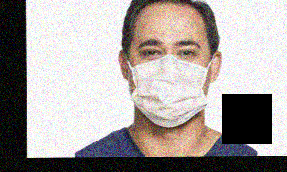with_mask: (127, 34, 209, 126)
